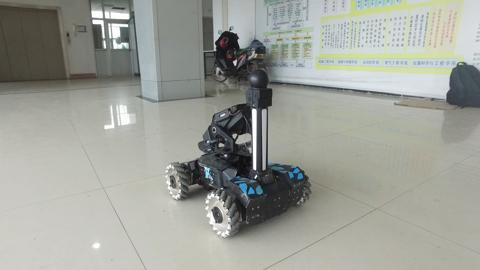bag: (445, 58, 479, 116)
chariot: (150, 70, 320, 241)
